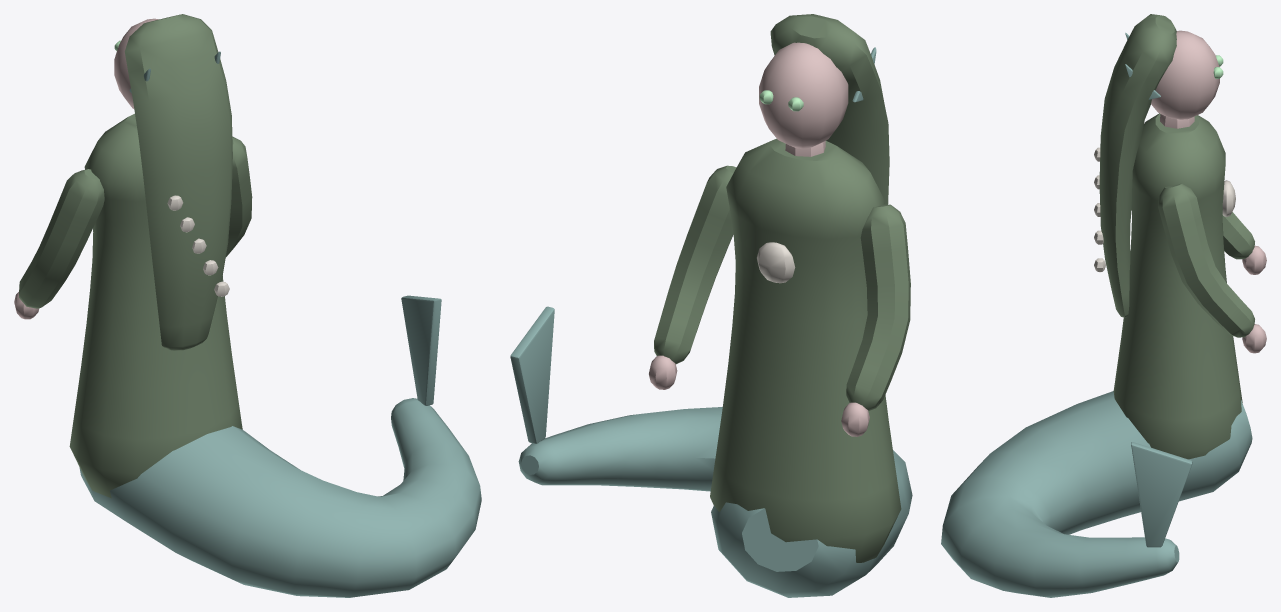
File: sea_siren.gltf
The picture shows the model from 3 angles, left to right: view 1: azimuth 30°, elevation 25°; view 2: azimuth 150°, elevation 25°; view 3: azimuth 270°, elevation 25°; orthographic projection. The views are drawn at different scales.
Parts seen in each view (by area): view 1: Body, ArmL, ArmR; view 2: Body, ArmL, ArmR; view 3: Body, ArmR, ArmL.
Boxes of the visible parts, x1,y1,x2,y2 form: Body: (69,14,481,597); ArmL: (14,169,104,319); ArmR: (225,136,252,257); Body: (510,14,912,597); ArmL: (841,204,910,436); ArmR: (649,165,736,389); Body: (941,14,1252,597); ArmR: (1158,183,1266,353); ArmL: (1222,212,1266,274).
Size of the model in its own units: 1.28 by 1.75 by 1.05.
